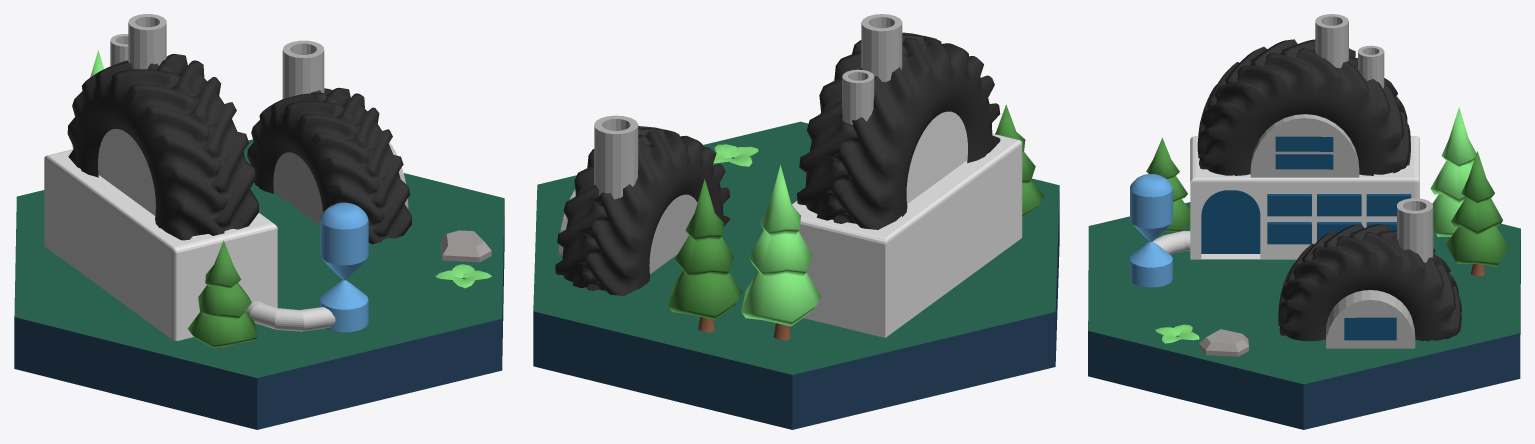
File: Macro - transportation factory lv3 wm1.fbx
3 renders of one model, left to right at view 1: azimuth 30°, elevation 25°; view 2: azimuth 150°, elevation 25°; view 3: azimuth 270°, elevation 25°, orthographic. The views are drawn at different scales.
Parts seen in each view (by area): view 1: Cylinder.154, Cylinder.018, Cube.002, Cylinder.007, Cylinder.014, Tree_Spruce_tiny_01.001, Cylinder.020, Cylinder.003, Cylinder.006, Cylinder.011, Cube.005, Rock Type4 04 mesh.001 (+2 smaller); view 2: Cylinder.154, Cube.002, Cylinder.018, Cylinder.007, Tree_Spruce_tiny_01.002, Tree_Spruce_tiny_01.003, Cylinder.020, Cylinder.003, Cylinder.011, Cylinder.006, Cylinder.004, Tree_Spruce_tiny_01.001 (+1 smaller); view 3: Cylinder.154, Cylinder.018, Cylinder.007, Cube.002, Tree_Spruce_tiny_01.003, Cylinder.016, Cylinder.014, Cube.008, Cylinder.015, Tree_Spruce_tiny_01.002, Cylinder.003, Cylinder.011 (+12 smaller).
Part boxes in pixels (bbox=[...]): Cylinder.154: bbox=[14, 139, 504, 429]; Cylinder.018: bbox=[67, 54, 258, 240]; Cube.002: bbox=[44, 149, 277, 340]; Cylinder.007: bbox=[247, 87, 411, 244]; Cylinder.014: bbox=[320, 202, 368, 332]; Tree_Spruce_tiny_01.001: bbox=[187, 240, 257, 348]; Cylinder.020: bbox=[98, 129, 155, 215]; Cylinder.003: bbox=[282, 40, 324, 99]; Cylinder.006: bbox=[273, 152, 322, 225]; Cylinder.011: bbox=[128, 14, 166, 69]; Cube.005: bbox=[246, 301, 335, 331]; Rock Type4 04 mesh.001: bbox=[440, 230, 491, 262]; Cylinder.154: bbox=[533, 121, 1059, 429]; Cube.002: bbox=[791, 133, 1022, 337]; Cylinder.018: bbox=[797, 32, 1000, 229]; Cylinder.007: bbox=[555, 126, 730, 295]; Tree_Spruce_tiny_01.002: bbox=[741, 165, 821, 340]; Tree_Spruce_tiny_01.003: bbox=[668, 179, 742, 332]; Cylinder.020: bbox=[906, 111, 967, 203]; Cylinder.003: bbox=[594, 115, 638, 199]; Cylinder.011: bbox=[861, 14, 902, 81]; Cylinder.006: bbox=[649, 194, 697, 273]; Cylinder.004: bbox=[842, 69, 874, 124]; Tree_Spruce_tiny_01.001: bbox=[995, 104, 1044, 216]; Cylinder.154: bbox=[1088, 202, 1520, 429]; Cylinder.018: bbox=[1197, 39, 1410, 175]; Cylinder.007: bbox=[1278, 224, 1461, 341]; Cube.002: bbox=[1190, 136, 1419, 259]; Tree_Spruce_tiny_01.003: bbox=[1446, 151, 1508, 276]; Cylinder.016: bbox=[1250, 114, 1359, 177]; Cylinder.014: bbox=[1130, 174, 1172, 287]; Cube.008: bbox=[1201, 190, 1260, 253]; Cylinder.015: bbox=[1326, 290, 1415, 348]; Tree_Spruce_tiny_01.002: bbox=[1430, 107, 1476, 236]; Cylinder.003: bbox=[1397, 198, 1433, 262]; Cylinder.011: bbox=[1315, 14, 1348, 67].
Size of the model in its own units: 197 by 115 by 172.
